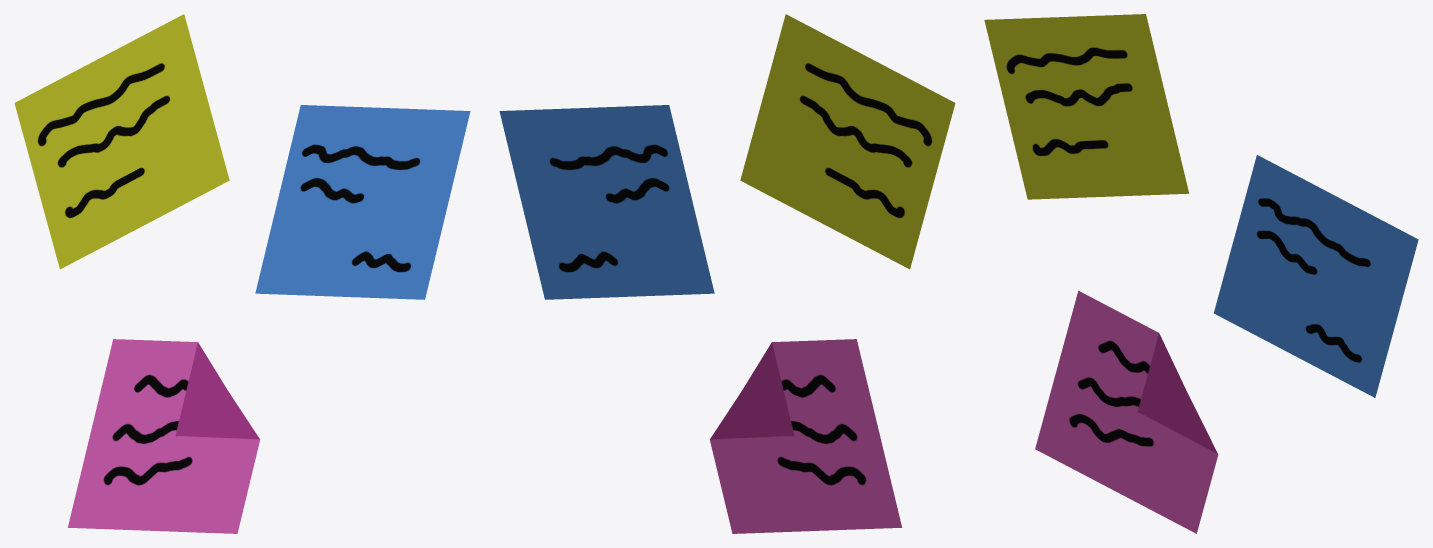
Rendered from postits.fbx.
The picture shows the model from 3 angles, left to right: view 1: azimuth 30°, elevation 25°; view 2: azimuth 150°, elevation 25°; view 3: azimuth 330°, elevation 25°; orthographic projection. The views are drawn at different scales.
Visible parts, largest first — view 1: pPlane4; view 2: pPlane4; view 3: pPlane4.
Part boxes in pixels (box(x1,y1,x2,y2)): pPlane4: box(14, 14, 470, 533); pPlane4: box(499, 14, 955, 533); pPlane4: box(984, 14, 1418, 533).
Size of the model in its own units: 19.46 by 21.73 by 9.99e-15.
1 material, 1 textured.
